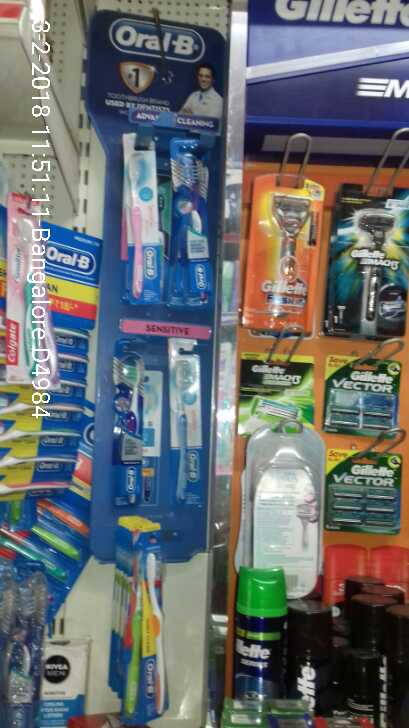beauty: (233, 563, 403, 728), (335, 192, 408, 342), (254, 187, 326, 339), (327, 355, 403, 441), (324, 452, 402, 532), (243, 355, 315, 427)
pharmacy: (110, 342, 161, 501), (120, 130, 162, 306), (171, 139, 210, 309), (167, 353, 208, 507)
